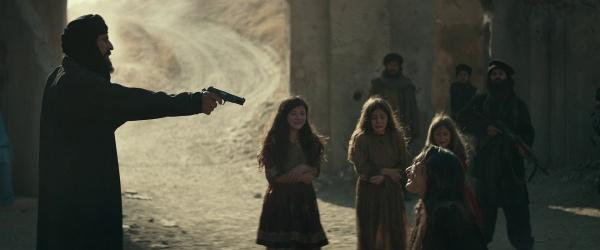Gun: (204, 85, 245, 114)
